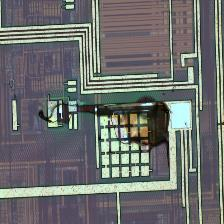PARTICLE: (36, 89, 180, 153)
